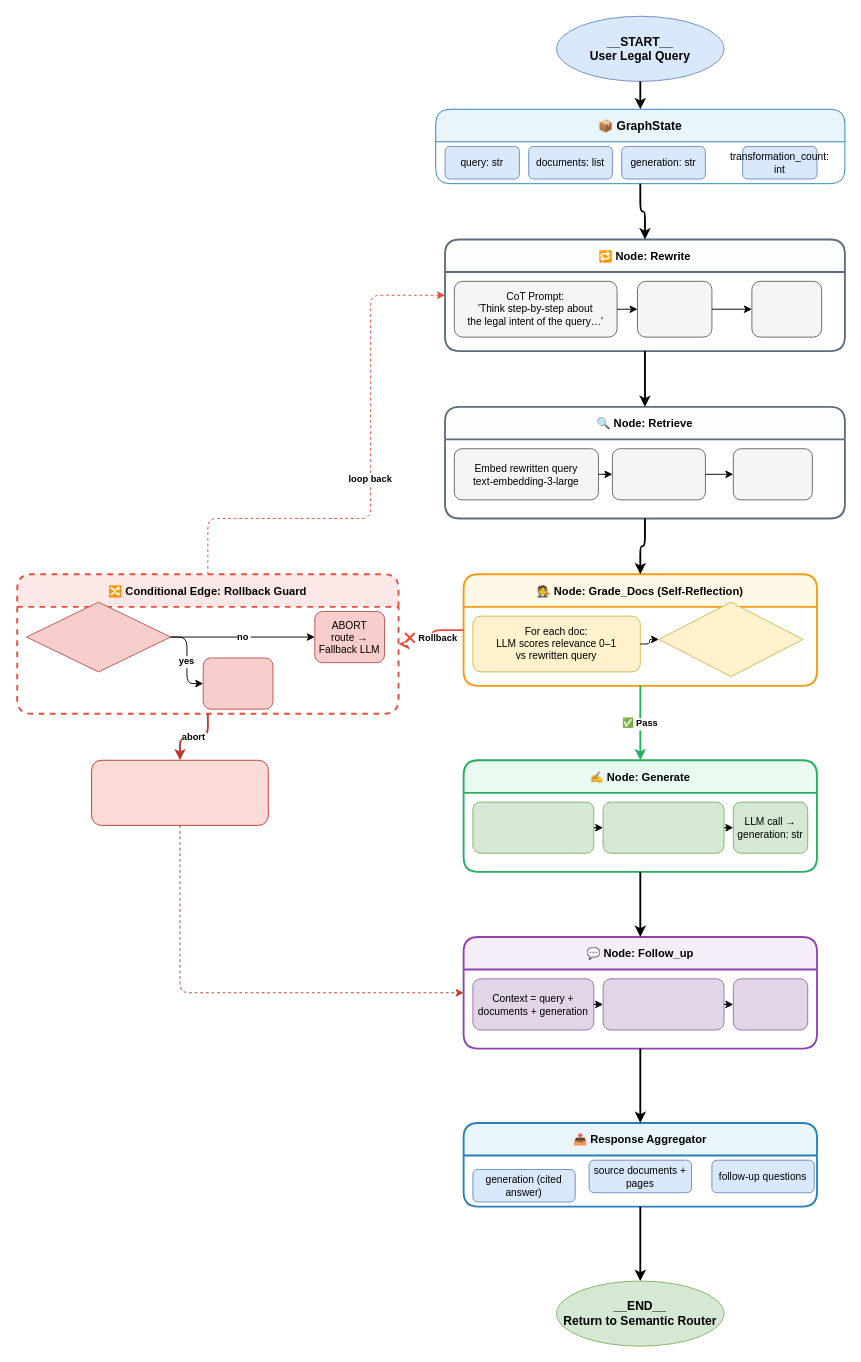
Some shapes in this 861 by 1362 pixel diagram are drawn without their labels. The shapes that lost their labels are listed below. From the top down, each one's centre as x and y in pixels, then its label:
At point (674, 308): "LLM rewrites query for retrieval".
At point (786, 308): "transformation_count += 1".
At point (658, 474): "Search Qdrant collection: llm | top-k=5".
At point (772, 474): "documents ← ranked chunks + metadata (title, source, page)".
At point (98, 636): "transformation_count < 3?".
At point (730, 639): "avg_score ≥ threshold (0.7)?".
At point (237, 683): "ROLLBACK route → Rewrite".
At point (179, 792): "⚠️ Fallback Node Answer from LLM only (no citations)".
At point (533, 827): "Build prompt: system + history + docs + query".
At point (663, 827): "CoT instruction: 'Reason through statutes, cite doc indices, then answer'".
At point (663, 1004): "LLM generates 3 context-aware follow-up questions".
At point (770, 1004): "Attach to response payload".
